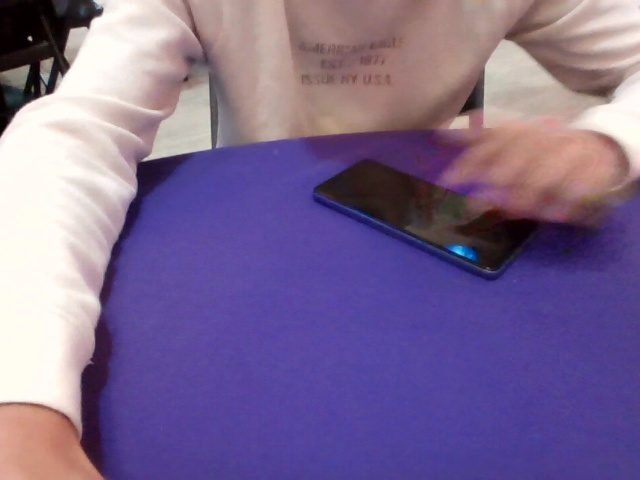celular: (312, 158, 540, 280)
